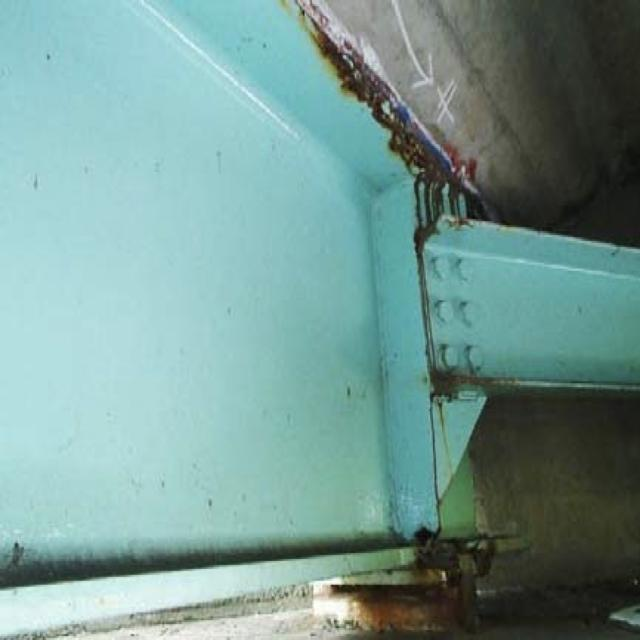corrosion: (307, 18, 486, 218)
